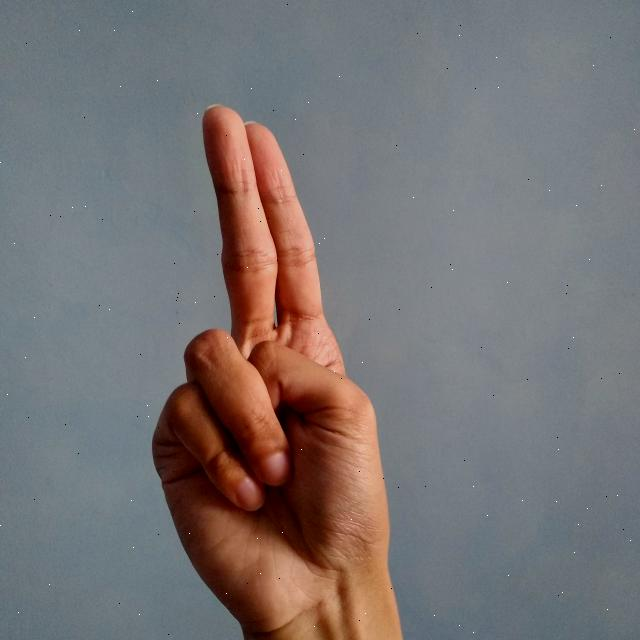U: (145, 95, 405, 640)
